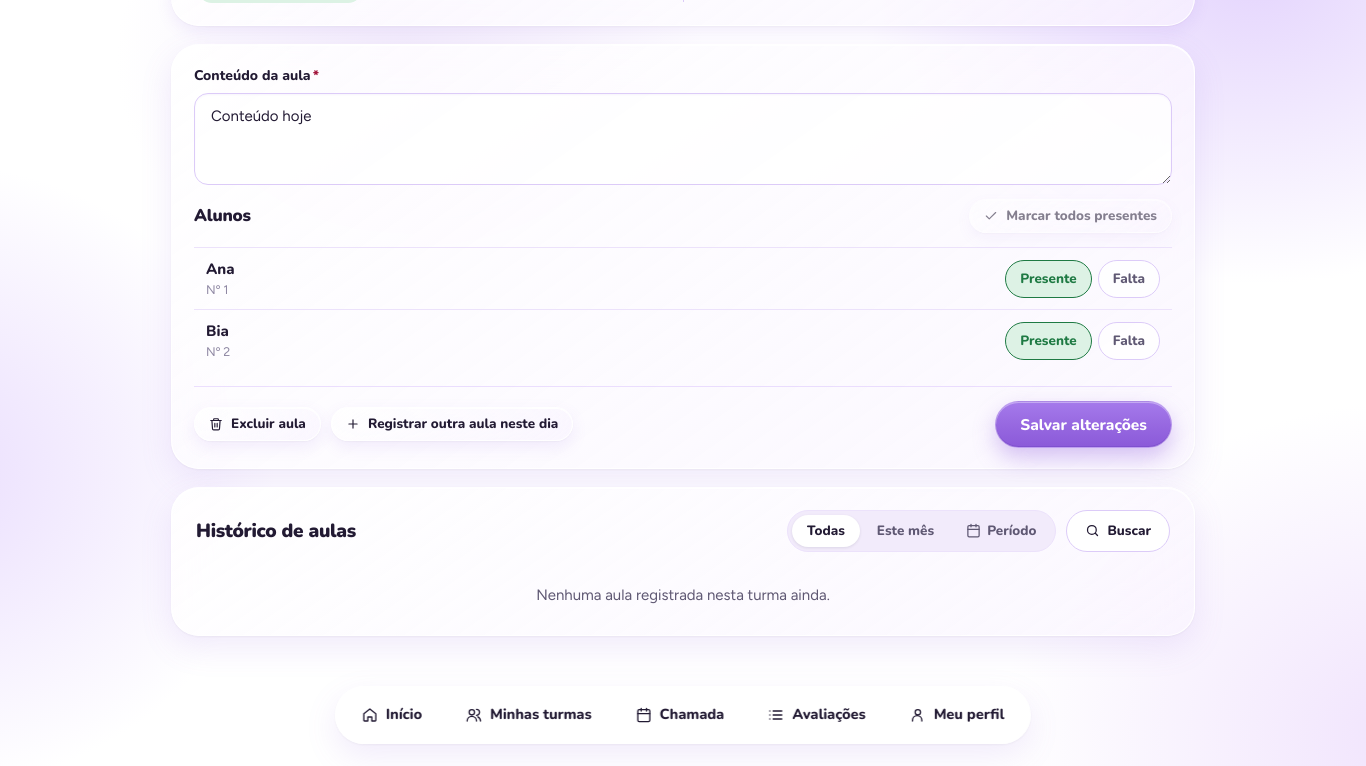
Chamada › num dia com aula, permite registrar outra e cancelar
The width and height of the screenshot is (1366, 766).
(page scrolled)
Click the button "Registrar outra aula neste dia".
click(452, 424)  # box [331,407,573,441]
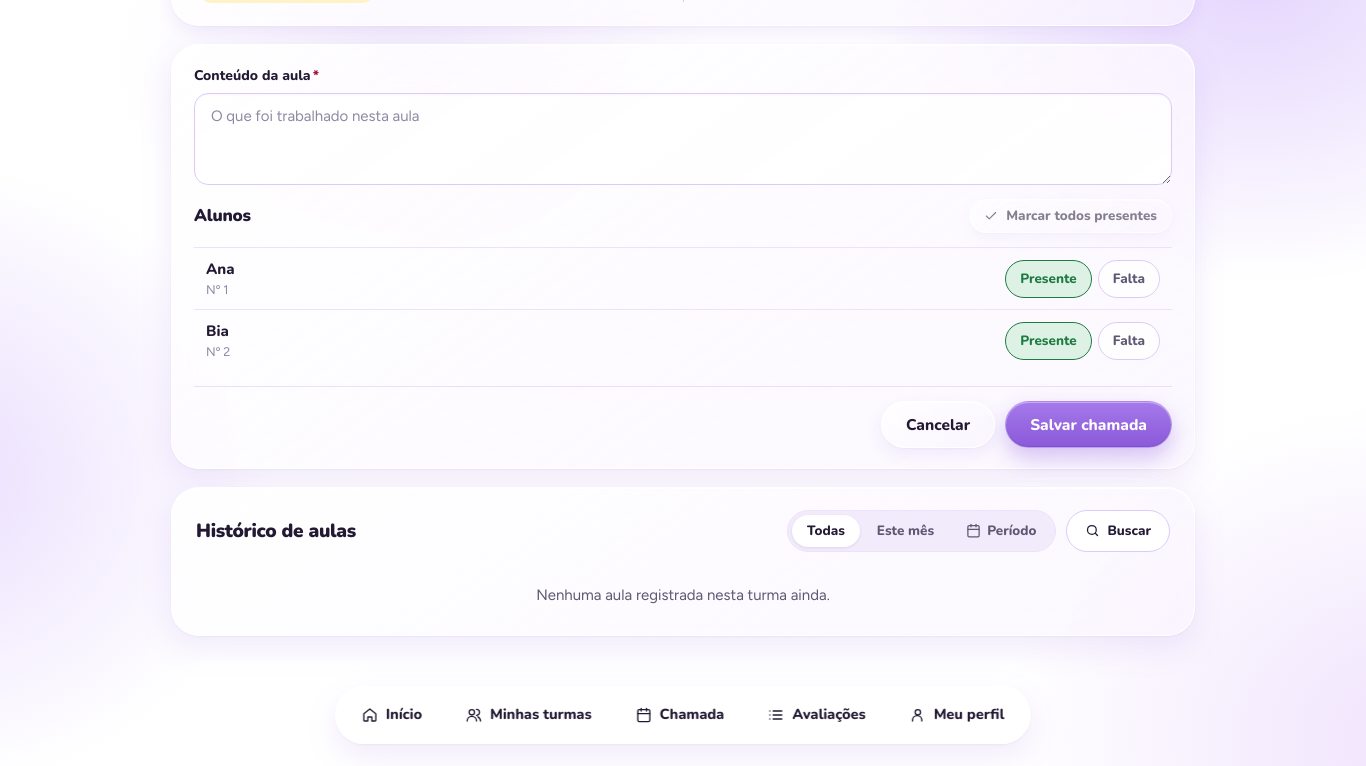
Check: the text box labelled "Conteúdo da aula*" is empty, box [194,93,1172,185]
Click the button "Cancelar".
click(938, 424)  # box [881,401,995,448]
(page scrolled)
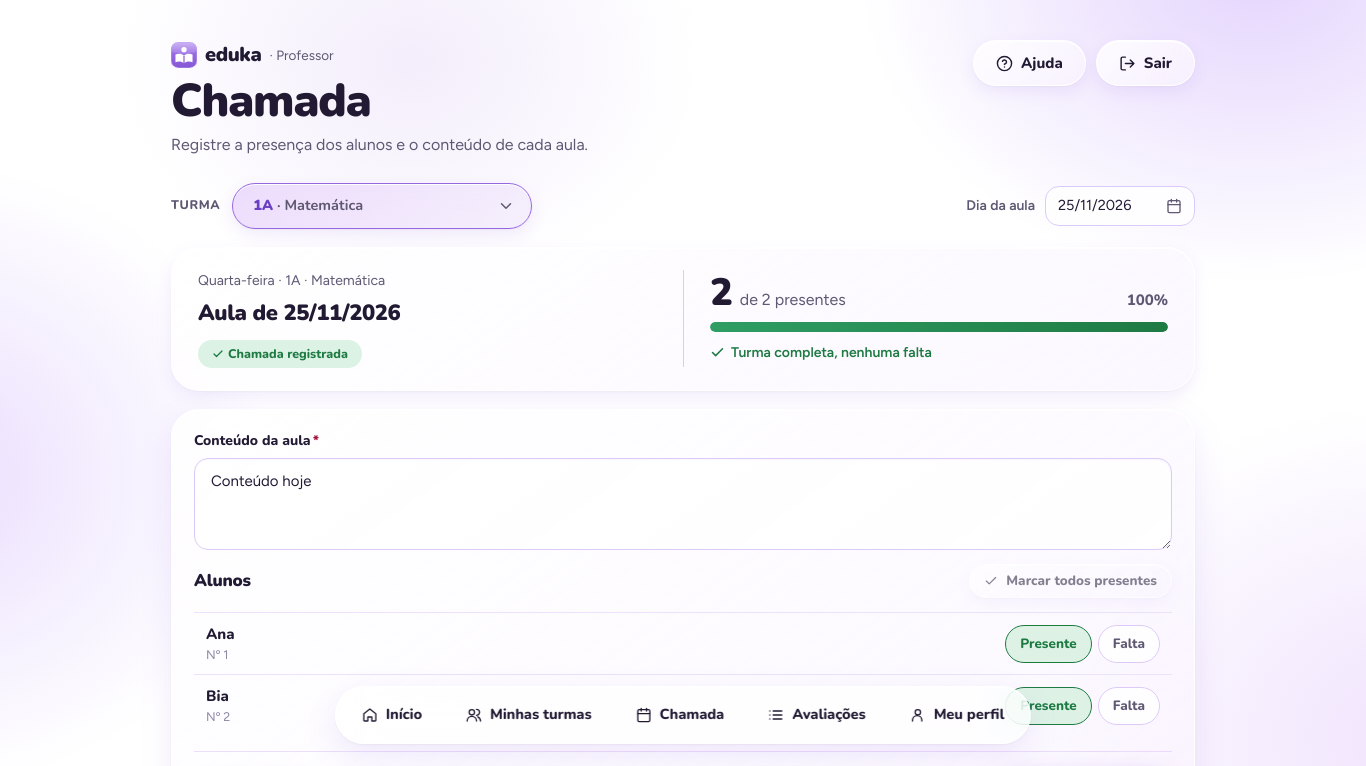
Check: the text "Chamada registrada" is shown, box [198,340,362,368]
Check: the text box labelled "Conteúdo da aula*" holds "Conteúdo hoje", box [194,458,1172,550]
